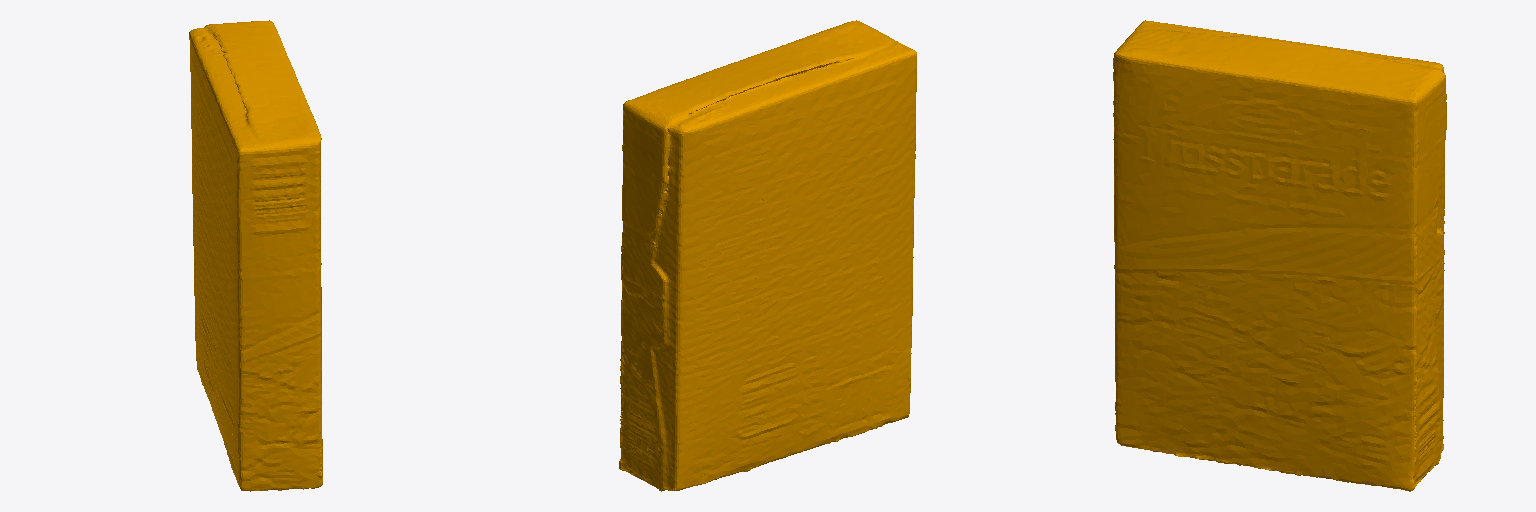
The robot description file, URDF, robot "object":
<?xml version="1.0" encoding="utf-8"?>
<robot name="object">
          <link name="object">
            <visual>
              <origin xyz="0.0 0.0 0.0" />
              <geometry>
                <mesh filename="package://scene_generation/object/kit/NutCandy/NutCandy.stl" scale="1.00 1.00 1.00" />
              </geometry>
            </visual>
            <collision>
              <origin xyz="0.0 0.0 0.0" />
              <geometry>
                <mesh filename="package://scene_generation/object/kit/NutCandy/NutCandy.stl" scale="1.00 1.00 1.00" />
              </geometry>
            </collision>
          </link>
        </robot>

--- Facts derived from the render (not from the file) ---
Views: 3 orthographic renders of the robot side by side, from view 1: azimuth 30°, elevation 25°; view 2: azimuth 150°, elevation 25°; view 3: azimuth 270°, elevation 25°.
Model object with 1 links and 0 joints (none), rooted at object, posed every joint at zero.
Links seen in each view (by area): view 1: object; view 2: object; view 3: object.
Boxes of the visible links, left/top/right/bottom form: object: left=189, top=20, right=322, bottom=491; object: left=619, top=20, right=916, bottom=491; object: left=1113, top=20, right=1446, bottom=491.
Size in the robot's own frame: 0.0827 by 0.1332 by 0.1761 metres.
Meshes: 1 distinct files referenced, 1 mesh visuals loaded (1 binary STL).